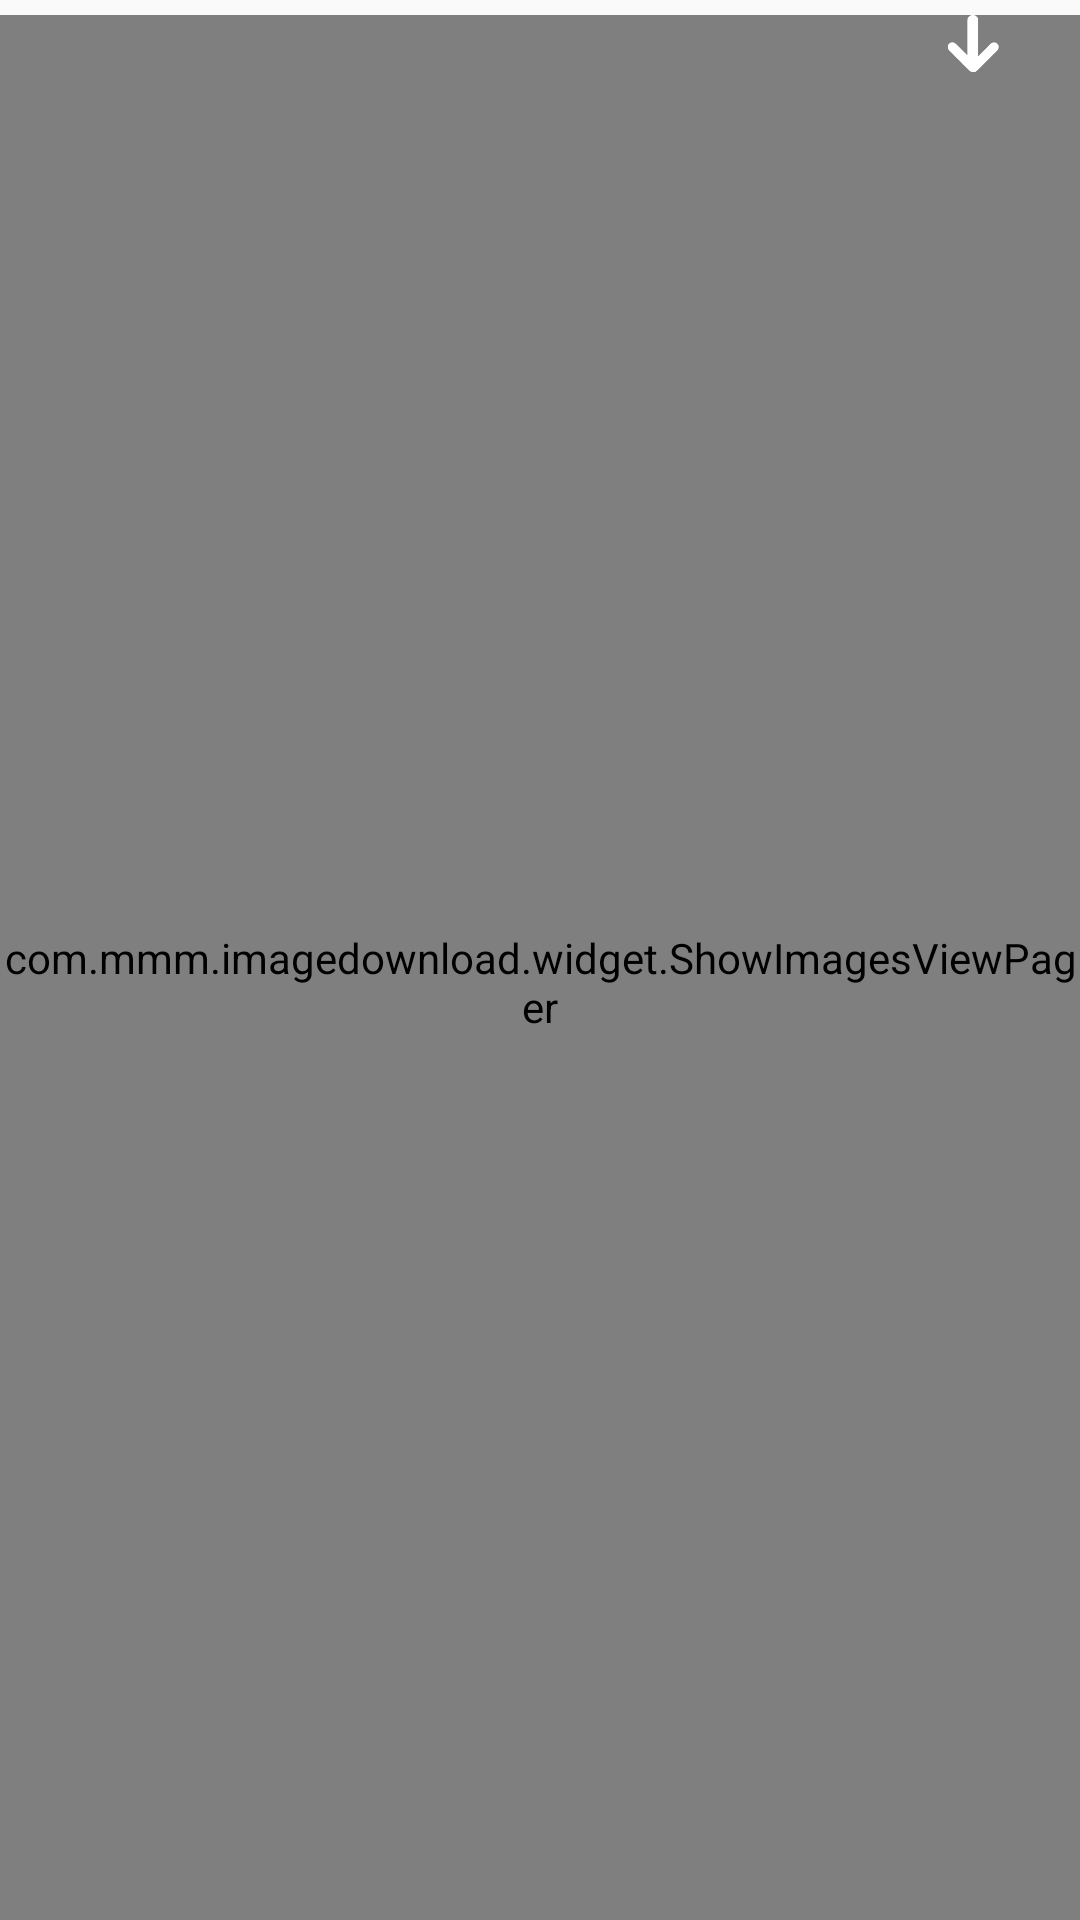

Icons on this 1080 x 1920 Android screen, each with its box as (x1, y1, x2, y2):
down arrow: (948, 15, 999, 72)
